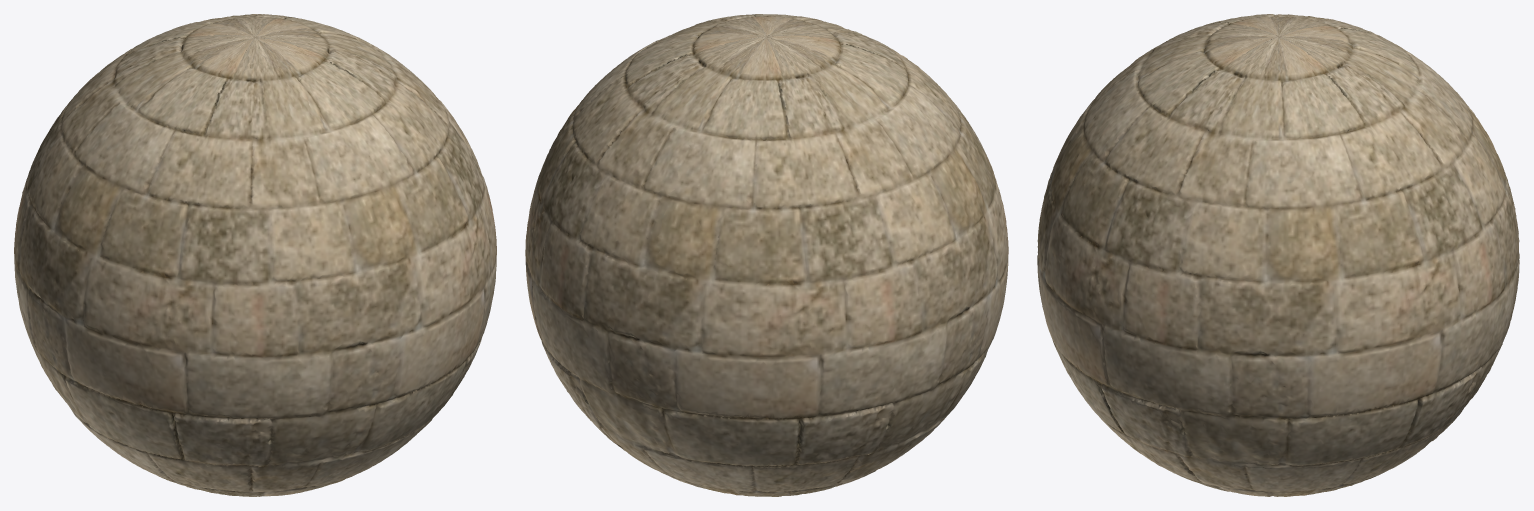
Rendered from medieval_blocks_03_2k.gltf.
The picture shows the model from 3 angles, left to right: view 1: azimuth 30°, elevation 25°; view 2: azimuth 150°, elevation 25°; view 3: azimuth 270°, elevation 25°; orthographic projection.
Parts seen in each view (by area): view 1: sphere_gltf; view 2: sphere_gltf; view 3: sphere_gltf.
Part boxes in pixels (bbox=[...]): sphere_gltf: bbox=[14, 14, 496, 496]; sphere_gltf: bbox=[525, 14, 1008, 496]; sphere_gltf: bbox=[1037, 14, 1519, 496].
Bounding box in the file's own units: 2.01 × 2.01 × 2.01.
Materials: 1 (1 with a texture image).
